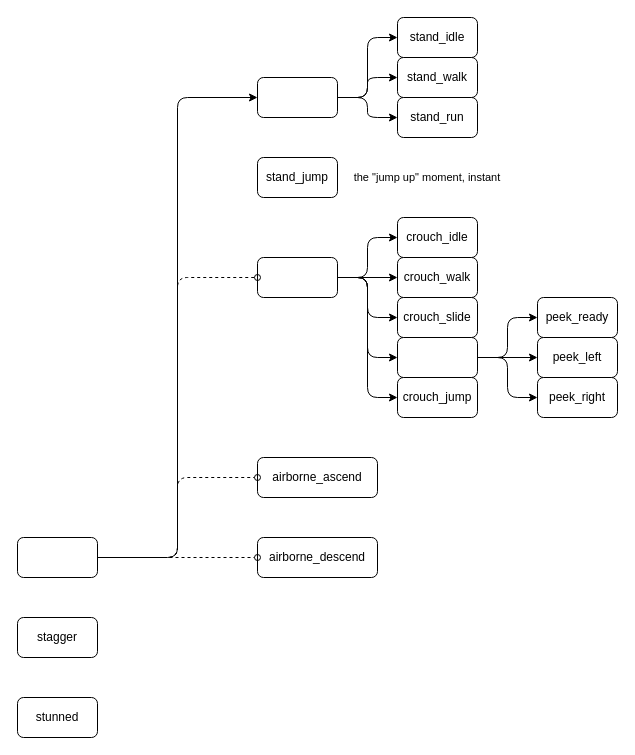
Image size: 635x755. Some labels were removed from this diagram. Each missing label, with the box of its shape:
crouch: (256, 256, 338, 298)
crouch_peek: (396, 336, 478, 378)
stand: (256, 76, 338, 118)
steady: (16, 536, 98, 578)
